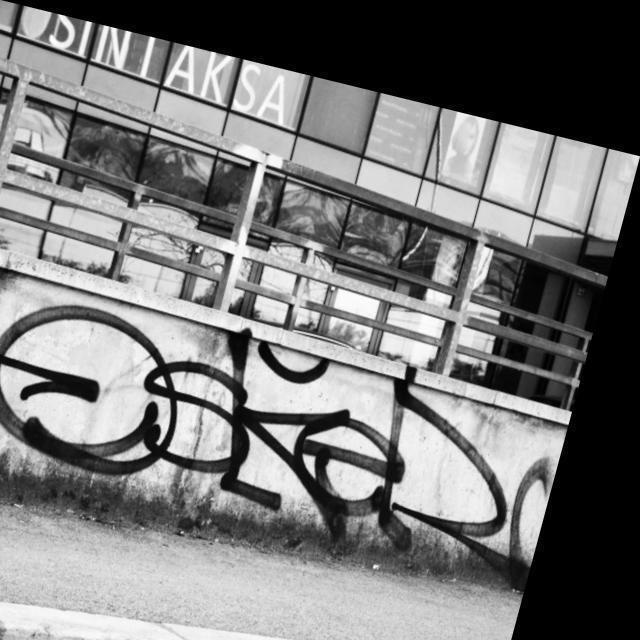-: (0, 243, 588, 578)
